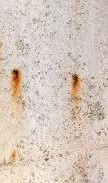Corrosion: (8, 67, 23, 99), (70, 73, 80, 96)
